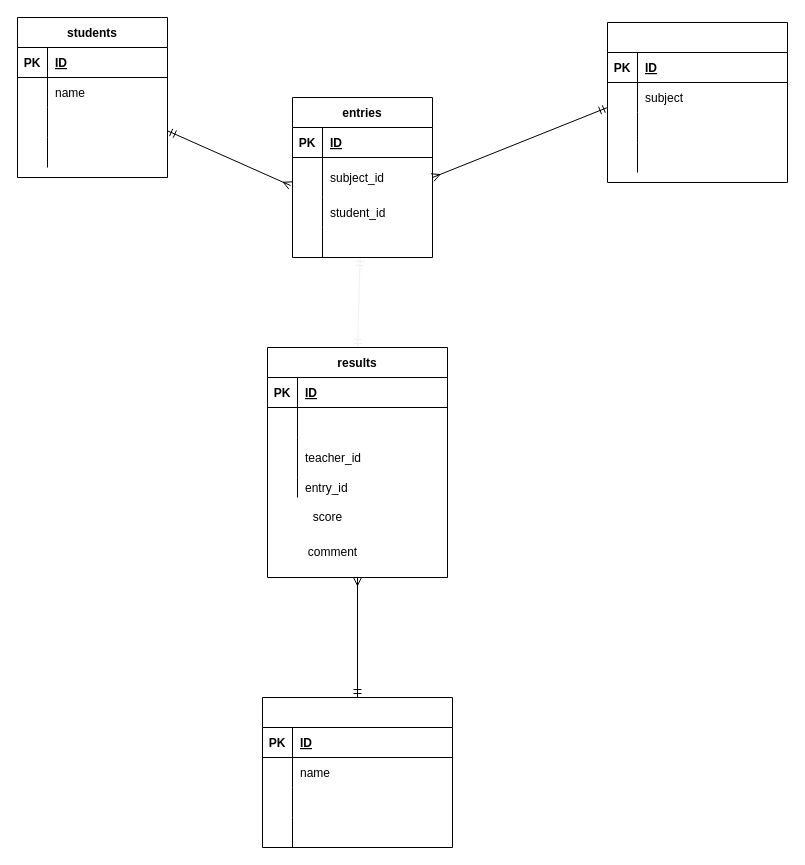
This 805x865 diagram has some shape labels left out. Each missing label, with the box of its shape:
subjects: (606, 22, 788, 182)
teachers: (262, 696, 452, 848)
